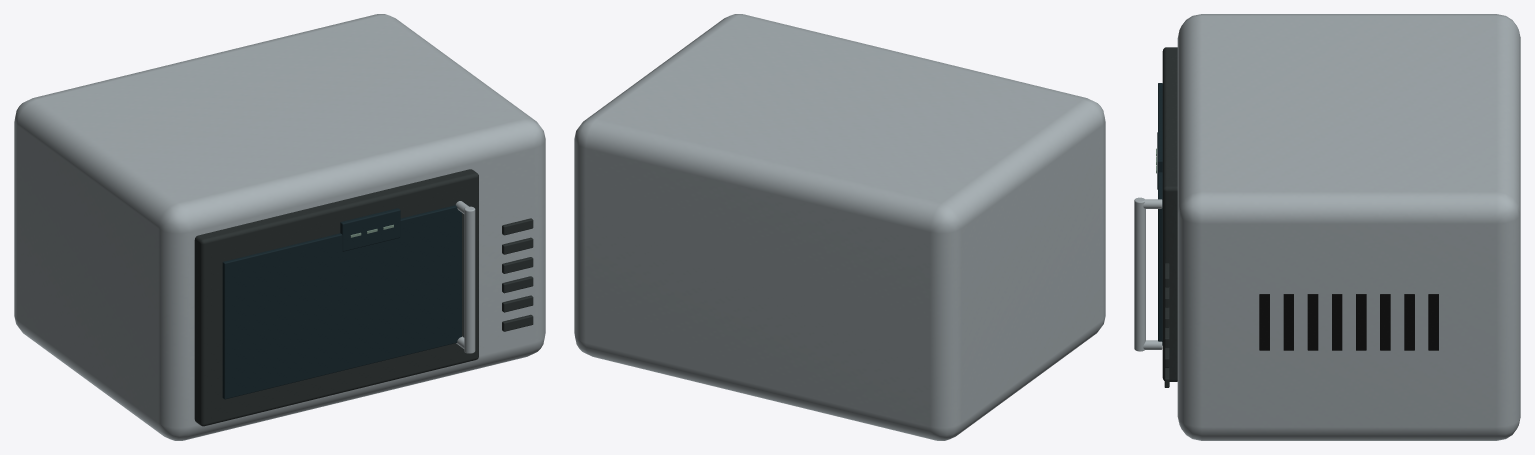
File: microwave.glb
3 renders of one model, left to right at view 1: azimuth 30°, elevation 25°; view 2: azimuth 150°, elevation 25°; view 3: azimuth 270°, elevation 25°, orthographic. The views are drawn at different scales.
Parts seen in each view (by area): view 1: Countertop oven metal shell, Glazed oven window, Inset oven door, Inset control display, Microwave vertical pull | grip; view 2: Countertop oven metal shell; view 3: Countertop oven metal shell, Inset oven door, Microwave vertical pull | grip, Glazed oven window, Side ventilation slot.002, Side ventilation slot, Side ventilation slot.001, Side ventilation slot.003, Side ventilation slot.004, Side ventilation slot.005, Side ventilation slot.006, Side ventilation slot.007.
Boxes of the visible parts, x1,y1,x2,y2 form: Countertop oven metal shell: [14, 14, 545, 440]; Glazed oven window: [222, 205, 461, 399]; Inset oven door: [194, 169, 478, 426]; Inset control display: [340, 208, 400, 251]; Microwave vertical pull | grip: [464, 206, 475, 353]; Countertop oven metal shell: [574, 14, 1105, 440]; Countertop oven metal shell: [1177, 14, 1520, 440]; Inset oven door: [1162, 47, 1177, 381]; Microwave vertical pull | grip: [1134, 197, 1145, 351]; Glazed oven window: [1158, 83, 1162, 345]; Side ventilation slot.002: [1307, 294, 1318, 350]; Side ventilation slot: [1259, 294, 1269, 350]; Side ventilation slot.001: [1283, 294, 1293, 350]; Side ventilation slot.003: [1332, 294, 1342, 350]; Side ventilation slot.004: [1356, 294, 1366, 350]; Side ventilation slot.005: [1380, 294, 1390, 350]; Side ventilation slot.006: [1404, 294, 1414, 350]; Side ventilation slot.007: [1428, 294, 1438, 350].
Size of the model in its own units: 0.482 by 0.292 by 0.4.
Materials: 6 (6 with a texture image).
